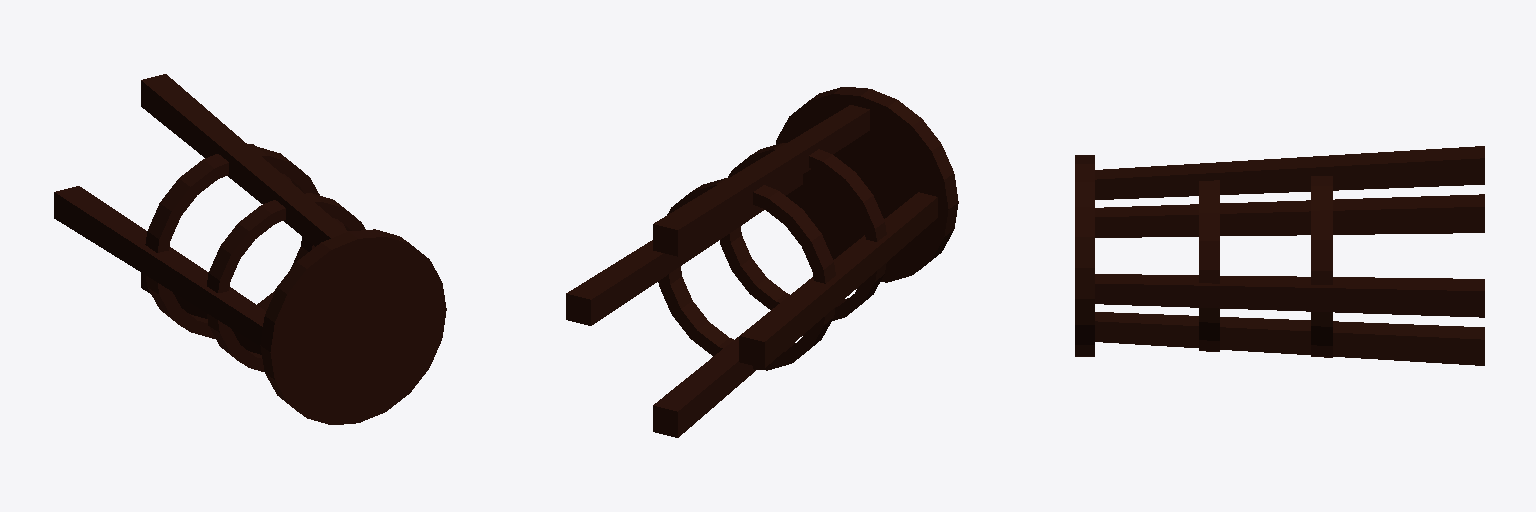
Rendered from Stool_01.obj.
3 renders of one model, left to right at view 1: azimuth 30°, elevation 25°; view 2: azimuth 150°, elevation 25°; view 3: azimuth 270°, elevation 25°, orthographic.
Visible parts, largest first — view 1: pCube61; view 2: pCube61; view 3: pCube61.
Part boxes in pixels (bbox=[...]): pCube61: bbox=[54, 74, 446, 424]; pCube61: bbox=[566, 87, 958, 437]; pCube61: bbox=[1075, 146, 1484, 365].
Bounding box in the file's own units: 151 × 151 × 271.